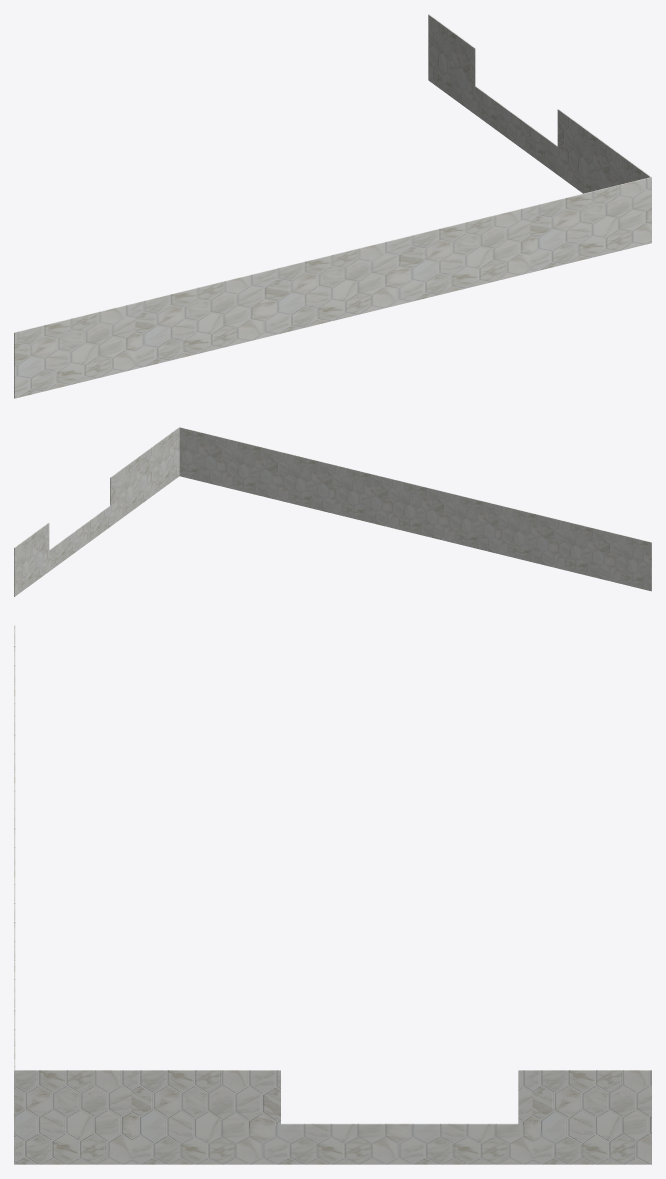
The model's file is BP_MarbleObsessionArabescato.glb.
The picture shows the model from 3 angles, top to bottom: view 1: azimuth 30°, elevation 25°; view 2: azimuth 150°, elevation 25°; view 3: azimuth 270°, elevation 25°; orthographic projection. The views are drawn at different scales.
Visible parts, largest first — view 1: BP_Marble Obsession Arabescato.; view 2: BP_Marble Obsession Arabescato.; view 3: BP_Marble Obsession Arabescato..
Boxes of the visible parts, x1,y1,x2,y2 form: BP_Marble Obsession Arabescato.: (14,14,651,398); BP_Marble Obsession Arabescato.: (14,427,651,596); BP_Marble Obsession Arabescato.: (14,625,651,1164).
Bounding box in the file's own units: 7.1 × 0.7 × 4.3.
1 material, 1 textured.
